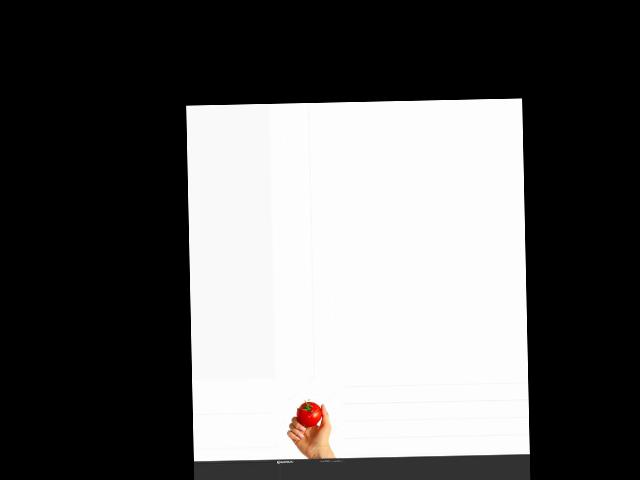tomato: (297, 401, 322, 427)
